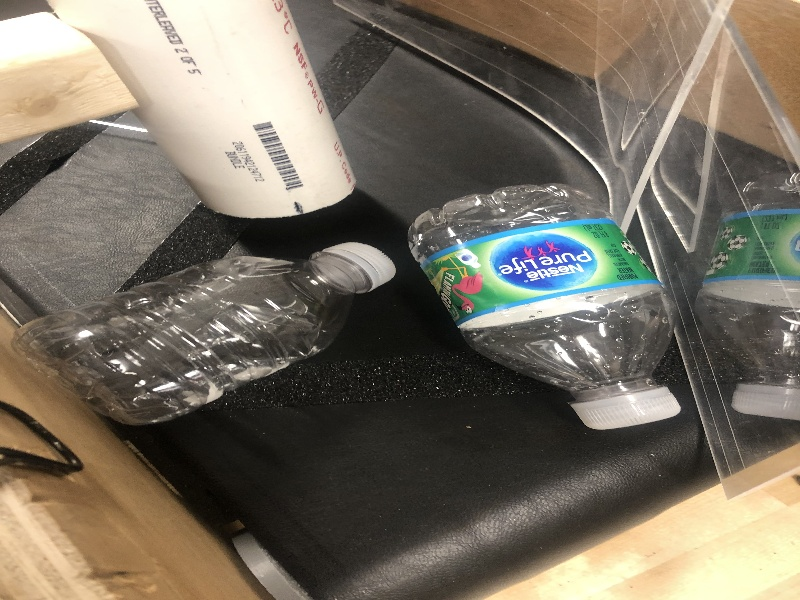plastic: (6, 232, 399, 433), (403, 180, 688, 441)
